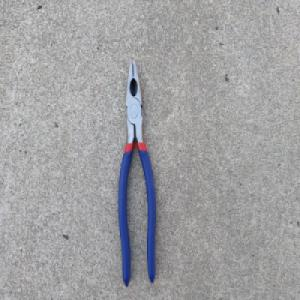Pliers: (116, 57, 157, 287)
